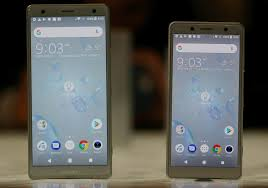sony: (24, 1, 114, 182)
